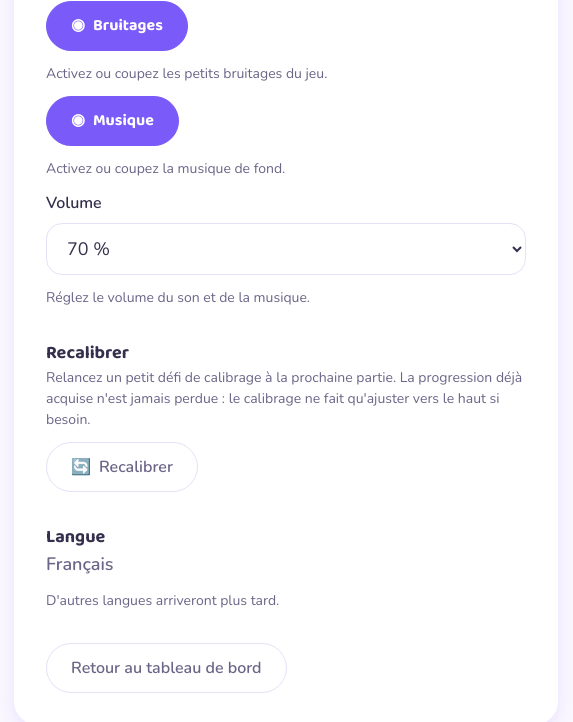
Test: SettingsForm — recalibrer (story 7.6, ADR 0016) › SÉCU : action { ok:false, code:UNAUTHORIZED } ⇒ role=alert message mappé (session expirée)
The image size is (573, 722).
(page scrolled)
Step 1. Click the button "🔄 Recalibrer" → (122, 467), box [46,442,198,492]
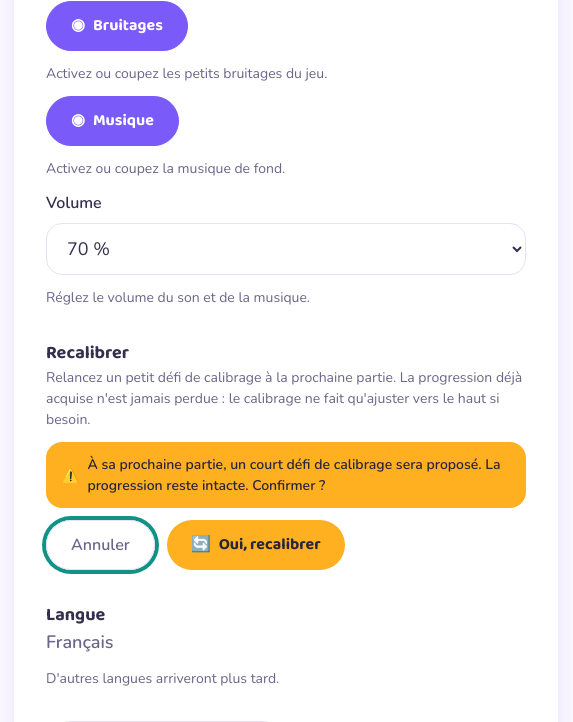
Step 2. Click the button "🔄 Oui, recalibrer" → (256, 545), box [167,520,345,570]
(page scrolled)
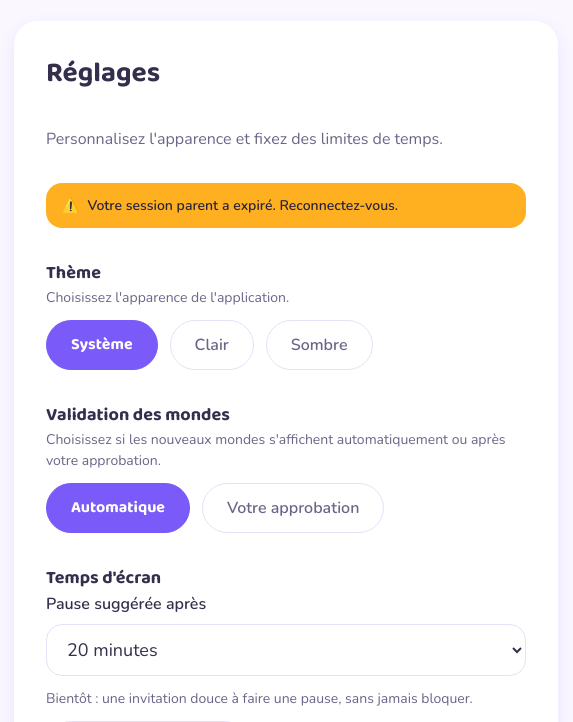
expect the message shows "Votre session parent a expiré. Reconnectez-vous.": met, box [88,196,398,215]
